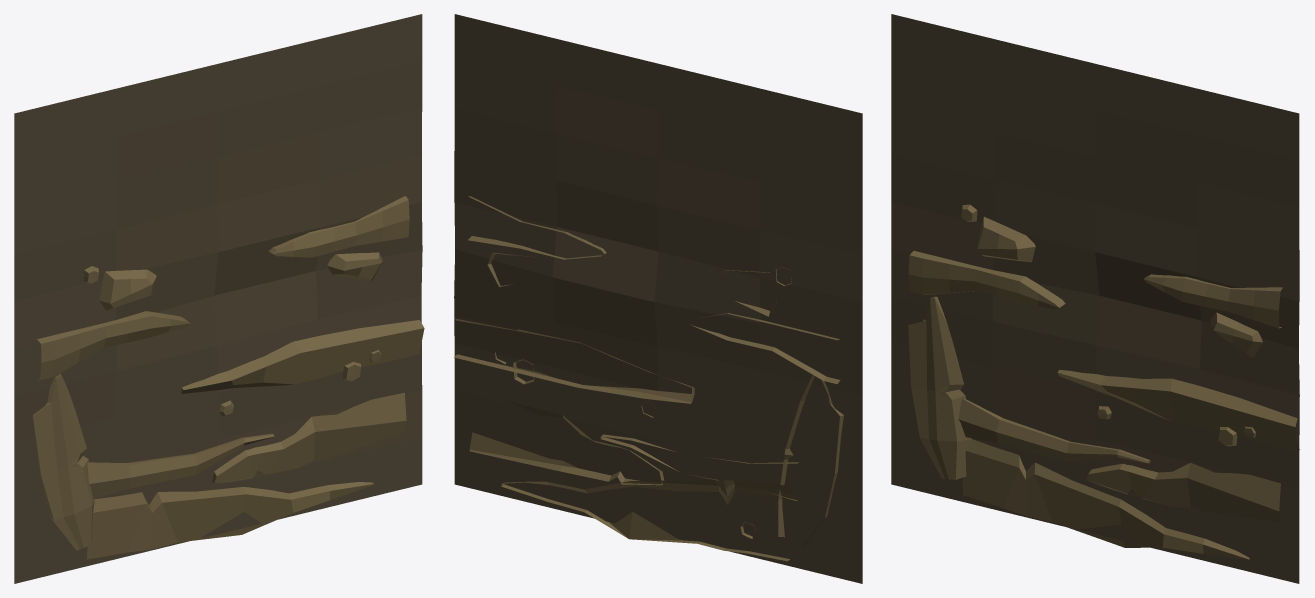
File: Basement_Wall_Var3.glb
3 views of the same model, side by side, from view 1: azimuth 30°, elevation 25°; view 2: azimuth 150°, elevation 25°; view 3: azimuth 330°, elevation 25° (orthographic).
Parts seen in each view (by area): view 1: Basement_Wall_Var3.001; view 2: Basement_Wall_Var3.001; view 3: Basement_Wall_Var3.001.
Part boxes in pixels (<box>): Basement_Wall_Var3.001: <box>14,14,424,583</box>; Basement_Wall_Var3.001: <box>454,14,862,583</box>; Basement_Wall_Var3.001: <box>891,14,1299,583</box>.
Bounding box in the file's own units: 4 × 4.5 × 0.195.
Materials: 2 (2 with a texture image).
